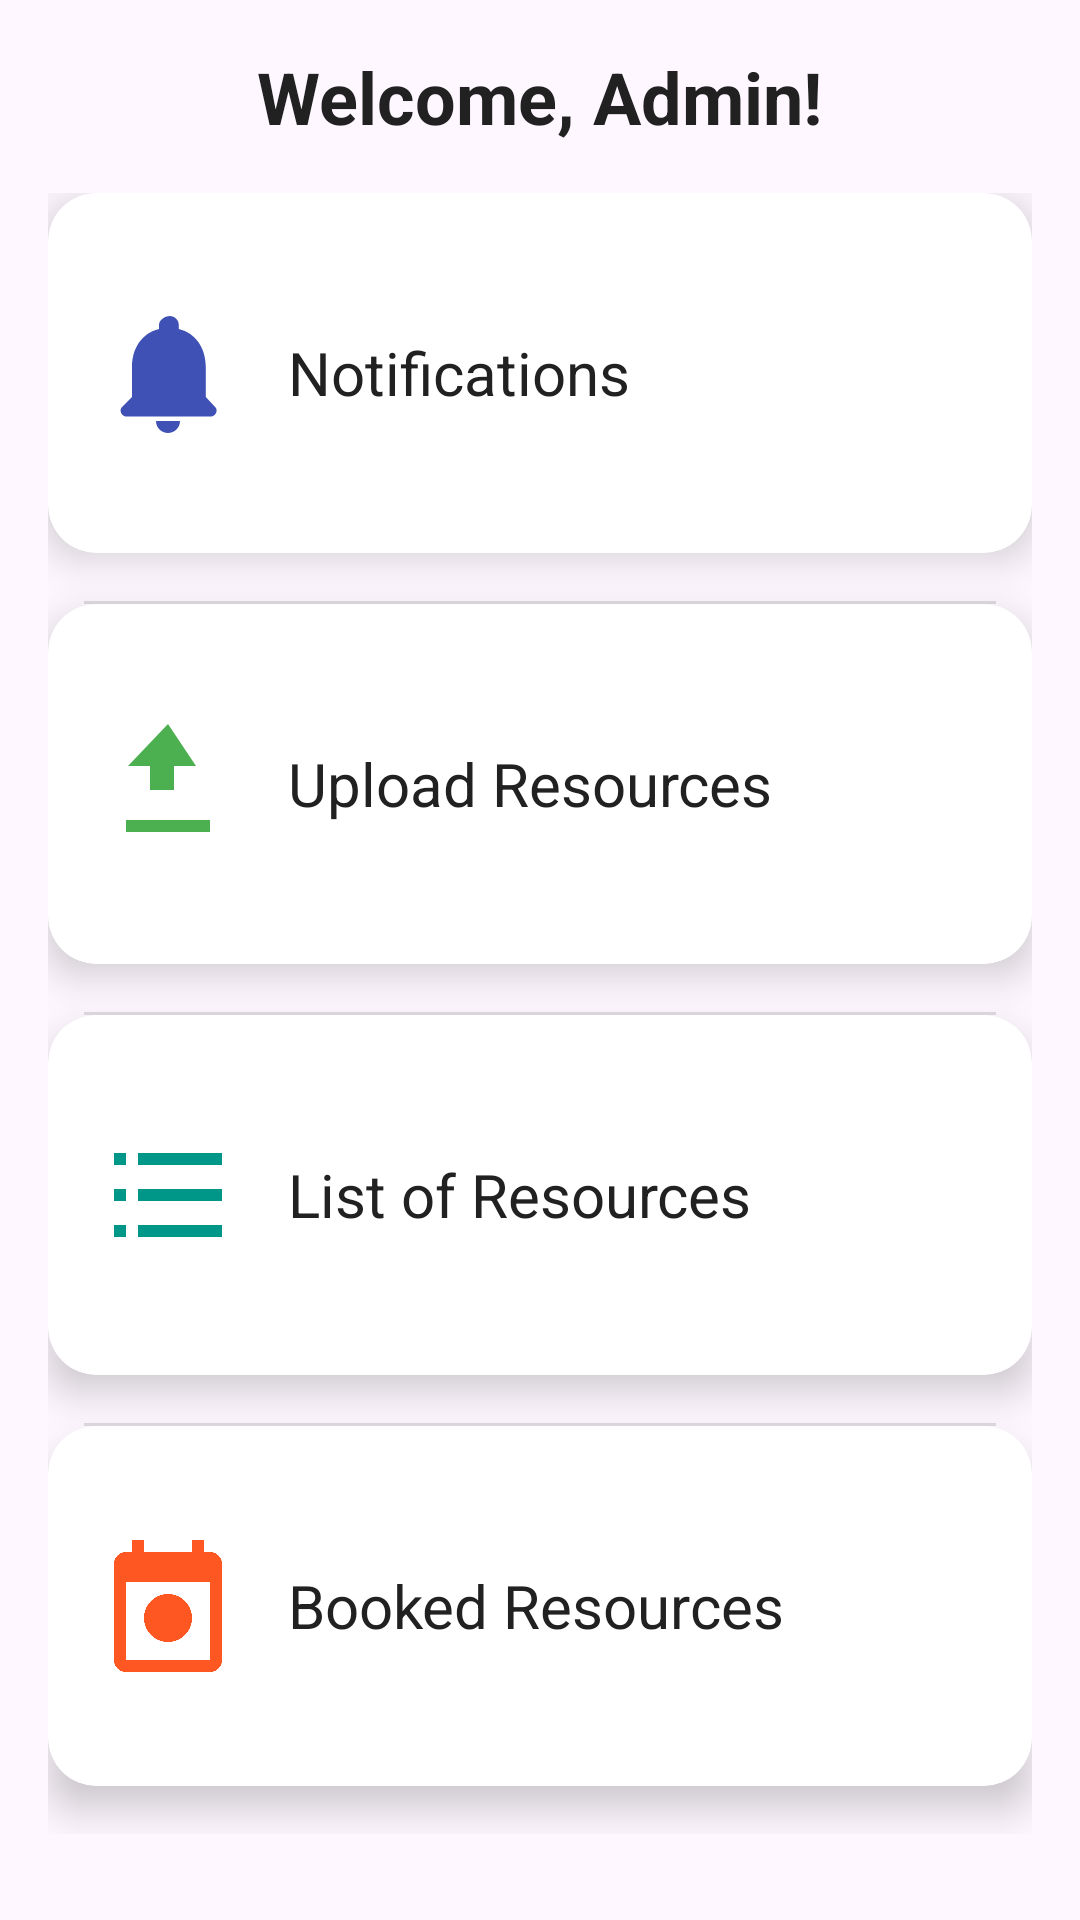

Icon bounding boxes for this 1080px×1920px phone screenshot, format (x1, y1, x2, y2):
booking: (114, 1540, 222, 1672)
